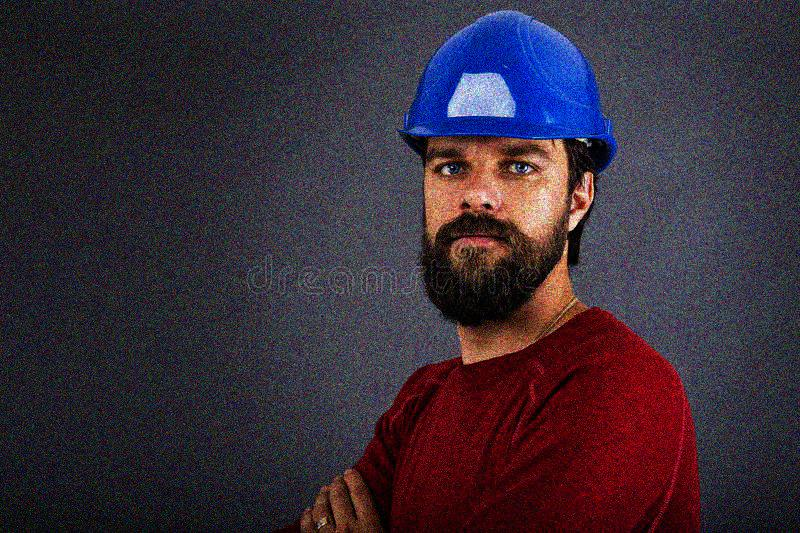helmet: (394, 10, 616, 322)
